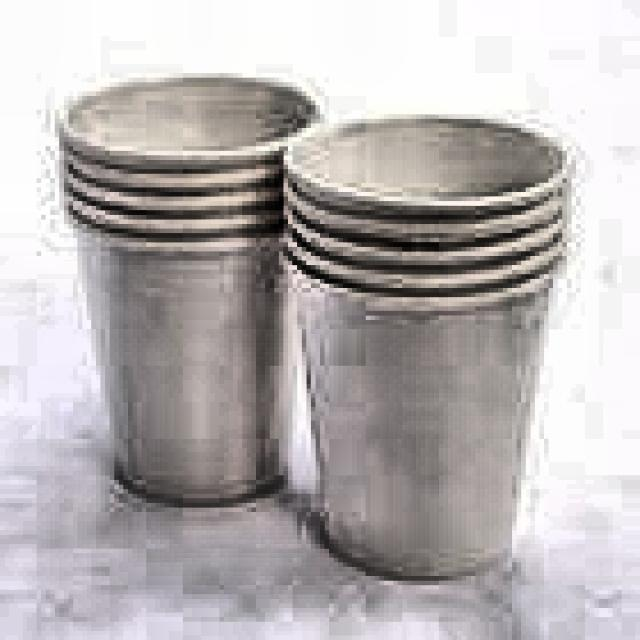Cup: (274, 84, 582, 596), (46, 55, 313, 542)
